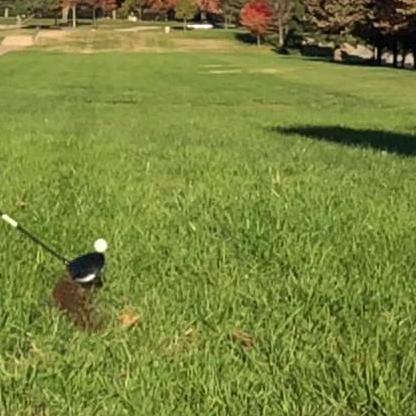golfball: (91, 234, 108, 251)
